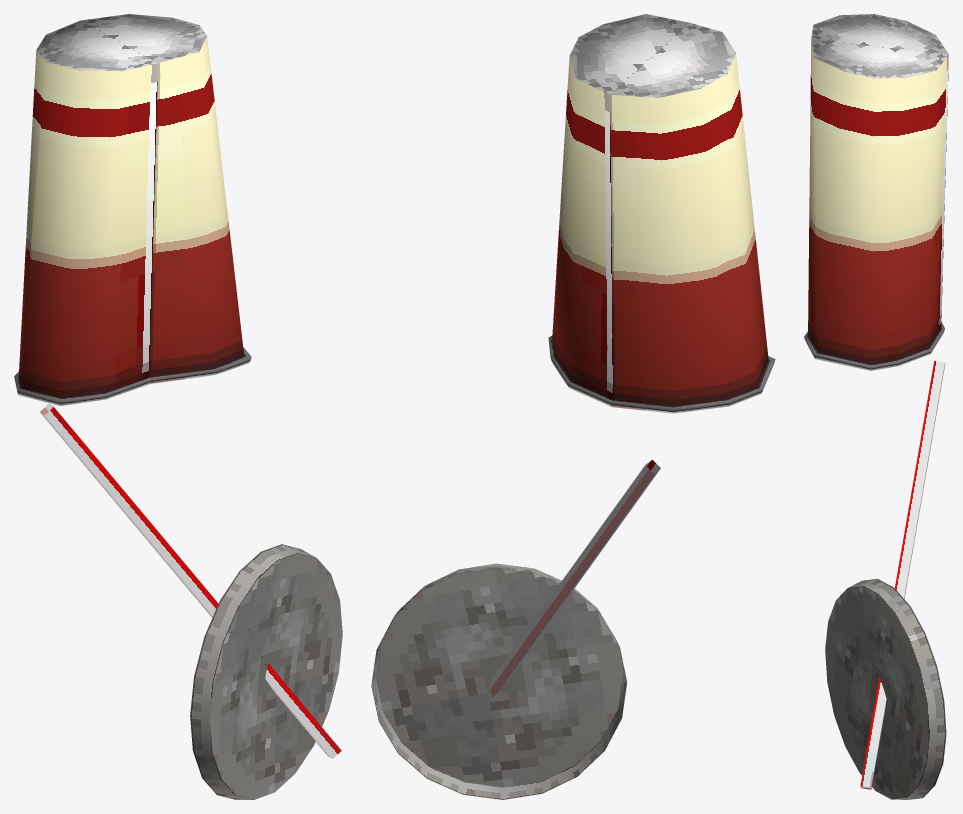
File: ma_cup_single_spilled_LOD0.obj
3 views of the same model, side by side, from view 1: azimuth 30°, elevation 25°; view 2: azimuth 150°, elevation 25°; view 3: azimuth 270°, elevation 25° (orthographic). The views are drawn at different scales.
Visible parts, largest first — view 1: mtl_cups; view 2: mtl_cups; view 3: mtl_cups.
Boxes of the visible parts, box(x1,y1,x2,y2) form: mtl_cups: box(14, 14, 342, 799); mtl_cups: box(371, 14, 775, 799); mtl_cups: box(804, 14, 948, 799).
Size of the model in its own units: 16.28 by 34.37 by 6.54.
